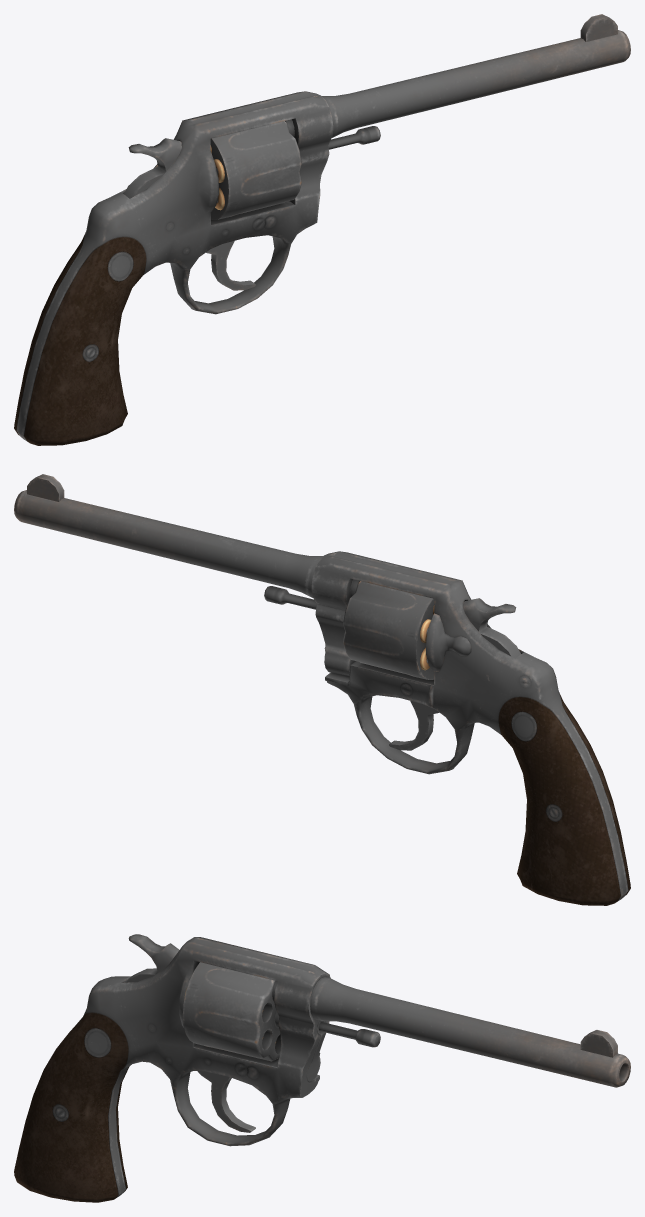
File: revolver_.38.glb
3 views of the same model, one above another, from view 1: azimuth 30°, elevation 25°; view 2: azimuth 150°, elevation 25°; view 3: azimuth 330°, elevation 25° (orthographic).
Visible parts, largest first — view 1: revolver_low; view 2: revolver_low; view 3: revolver_low.
Part boxes in pixels (x1=…): revolver_low: x1=14, y1=14, x2=630, y2=445; revolver_low: x1=14, y1=474, x2=630, y2=905; revolver_low: x1=14, y1=934, x2=630, y2=1202.
Size of the model in its own units: 325 by 145 by 43.3.
Materials: 1 (1 with a texture image).
